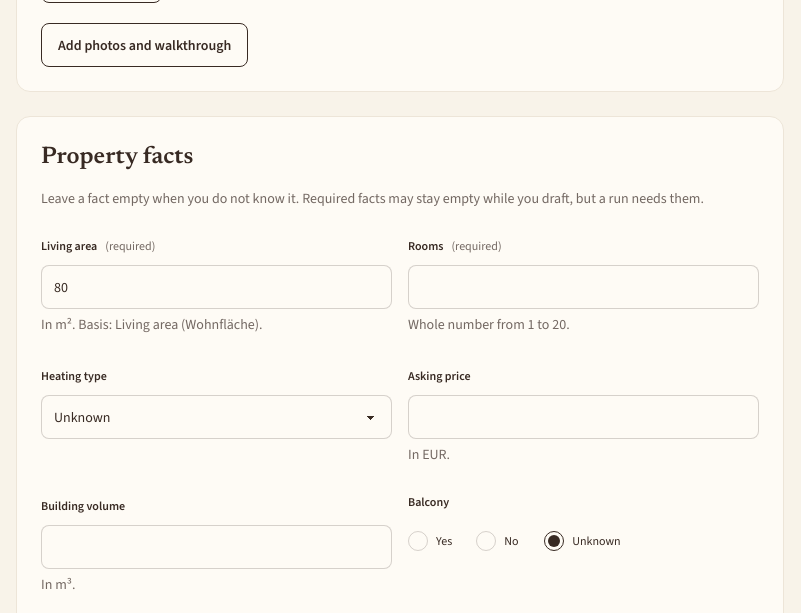
Scenario: typing numbers in the fact form › refuses "abc" and keeps the stored value untouched
(page scrolled)
Replace the text in the field labelled "Living area (required)" with "abc". click: [216, 287]
box: [41,265,392,309]
(page scrolled)
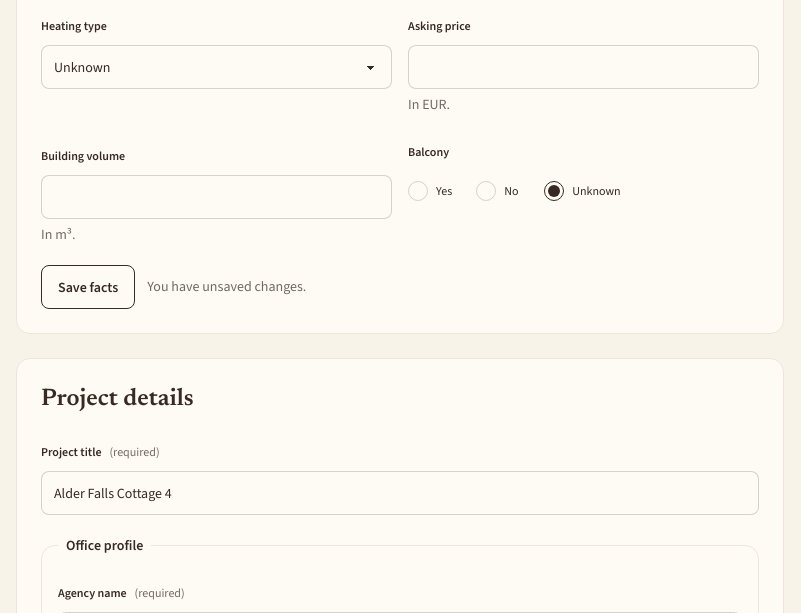
Click the button "Save facts". click: [88, 287]
box: [41,265,135,309]
(page scrolled)
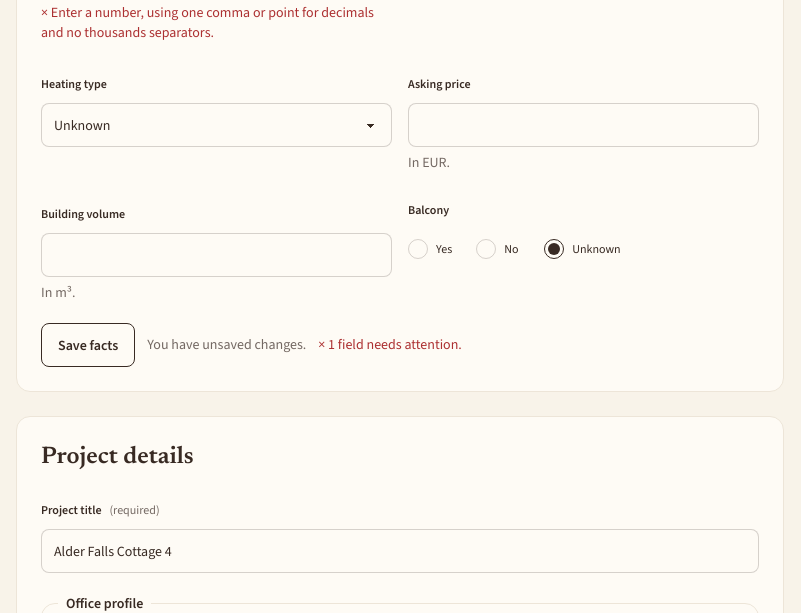
Result: the text "Enter a number, using one comma or point for decimals and no thousands separators." is shown at [41,3,374,42]
